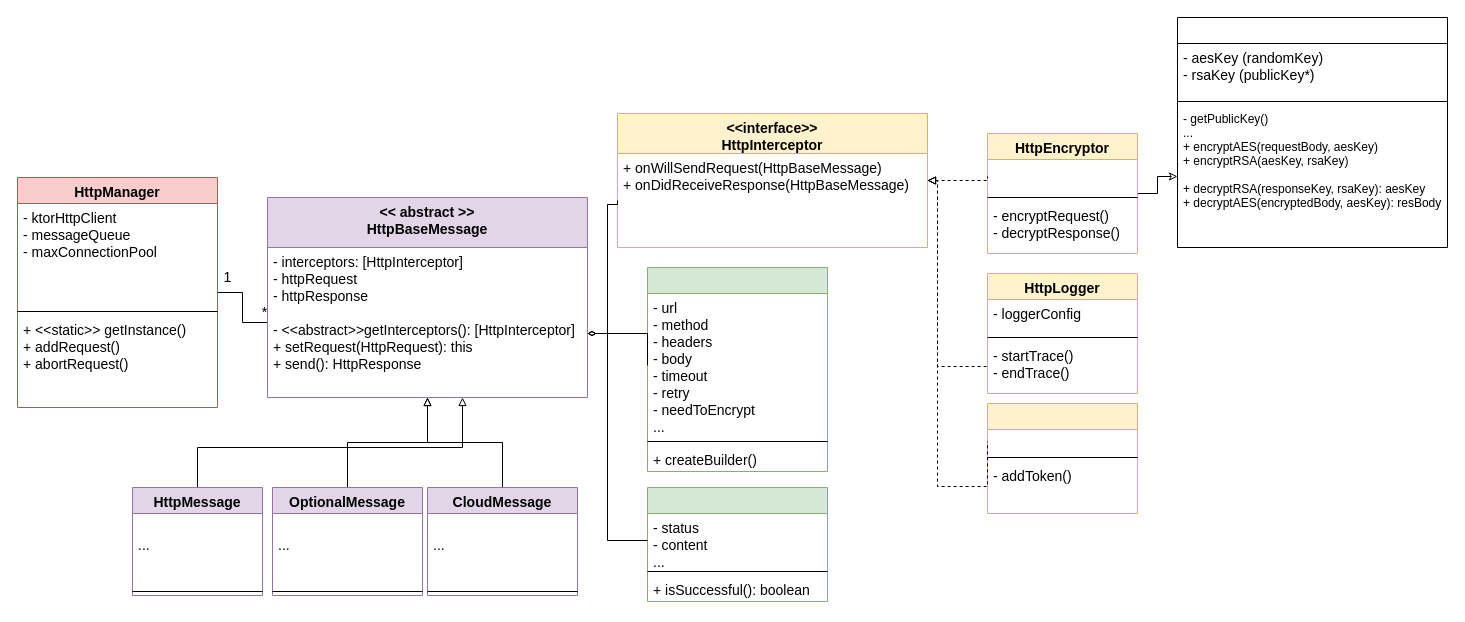
Some shapes in this 1465 by 622 pixel diagram are drawn without their labels. Each missing label, with the box of its shape:
AuthHeader: (986, 402, 1138, 514)
Encryptor: (1176, 16, 1448, 248)
HttpRequest: (646, 266, 828, 472)
HttpResponse: (646, 486, 828, 602)
